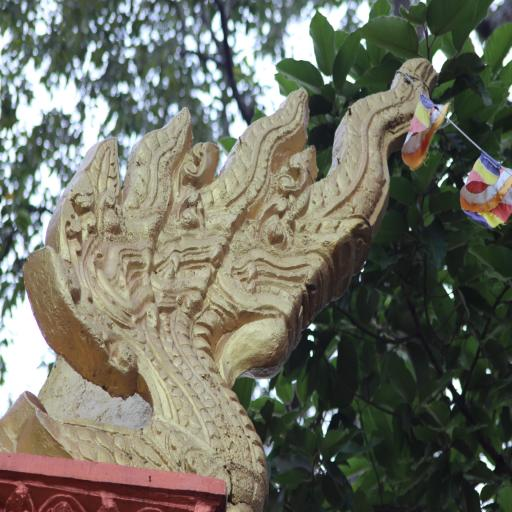ran: (32, 50, 442, 450)
